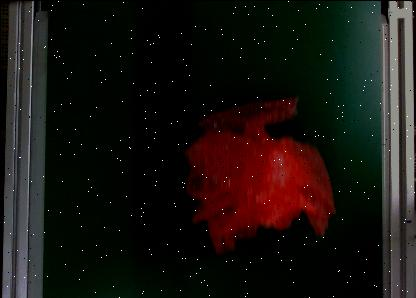Others: (179, 96, 339, 257)
